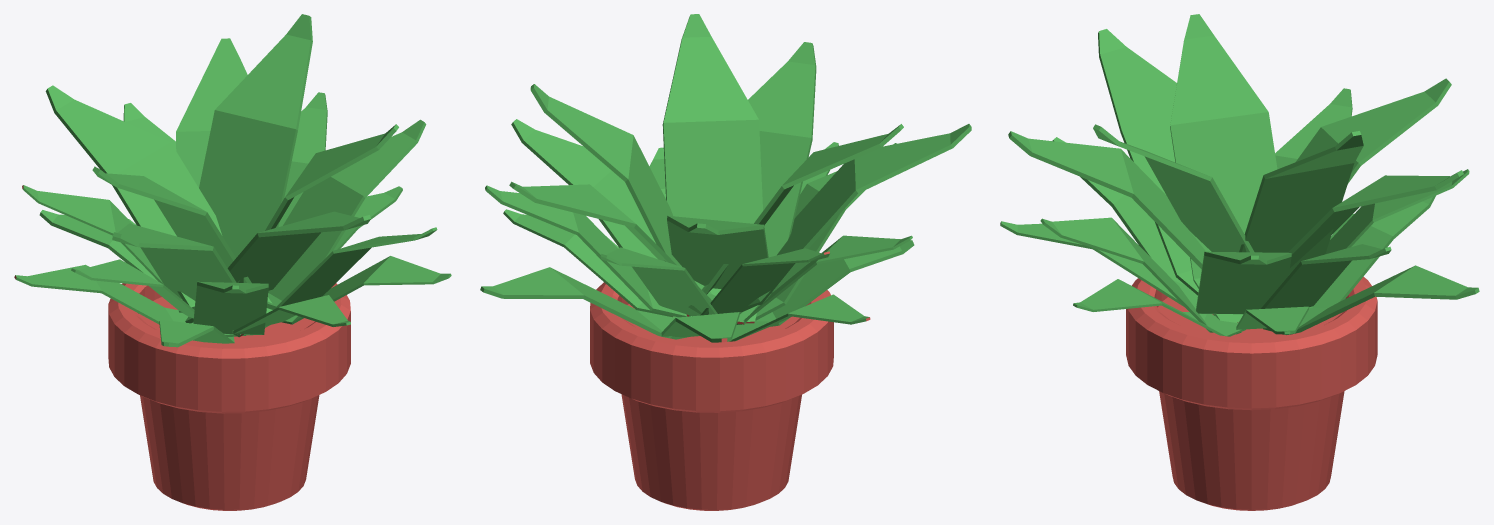
Rendered from plant_1.fbx.
The picture shows the model from 3 angles, left to right: view 1: azimuth 30°, elevation 25°; view 2: azimuth 150°, elevation 25°; view 3: azimuth 270°, elevation 25°; orthographic projection. The views are drawn at different scales.
Visible parts, largest first — view 1: mesh_PlantPotSmall; view 2: mesh_PlantPotSmall; view 3: mesh_PlantPotSmall.
Boxes of the visible parts, box(x1,y1,x2,y2) form: mesh_PlantPotSmall: box(14, 14, 451, 510); mesh_PlantPotSmall: box(480, 14, 971, 510); mesh_PlantPotSmall: box(1000, 14, 1479, 510).
Size of the model in its own units: 43.56 by 43.32 by 45.55.
